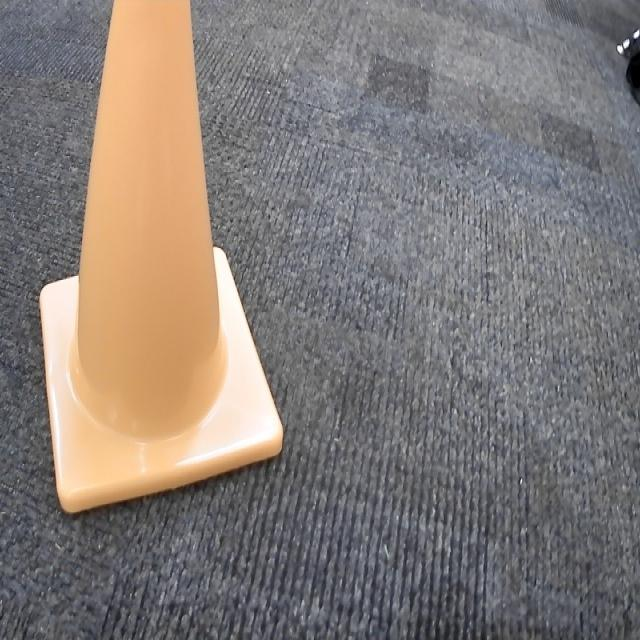cone: (36, 0, 285, 518)
